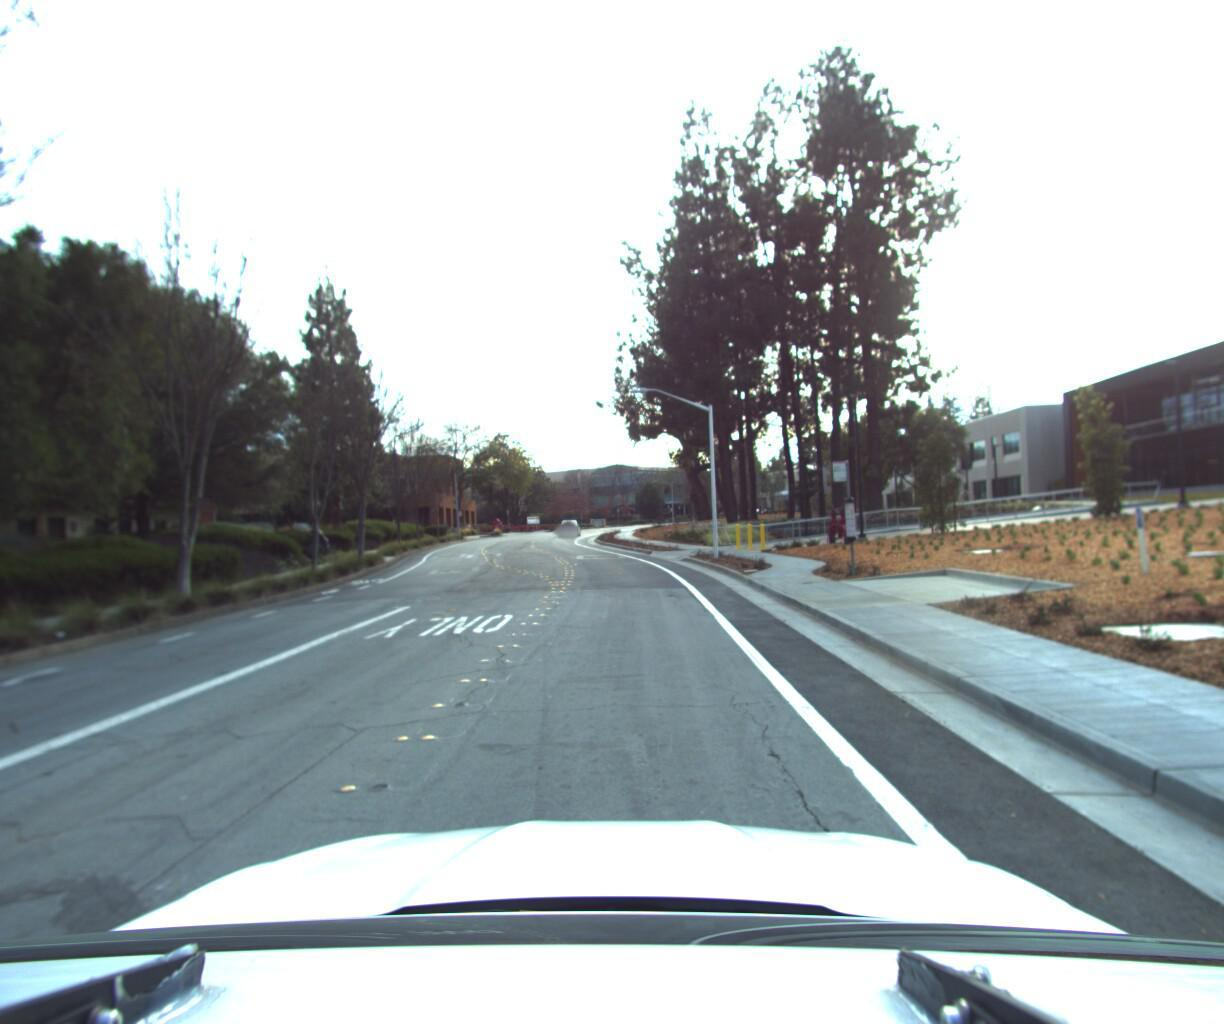car: (557, 516, 582, 536)
